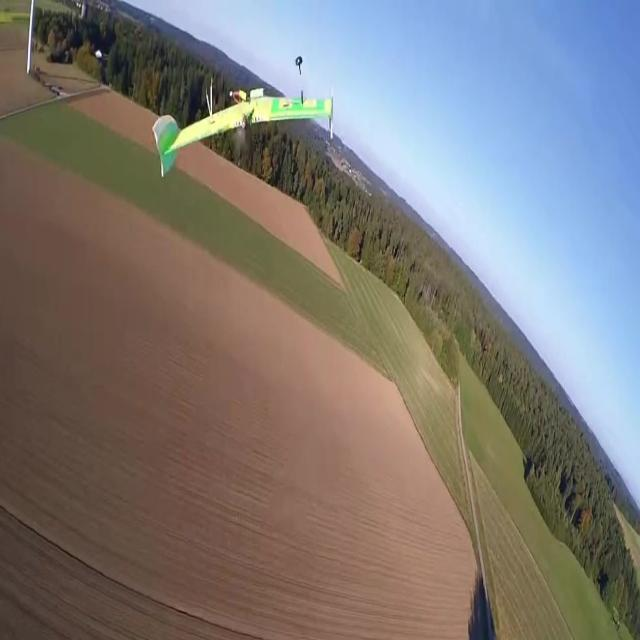iha: (152, 0, 335, 117)
